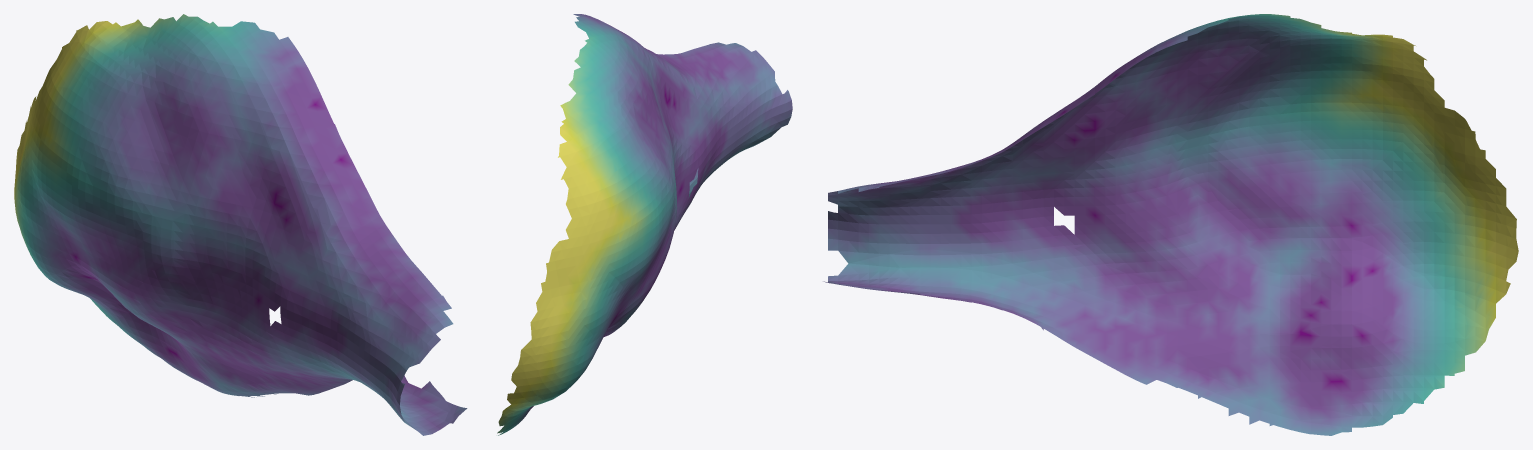
The model's file is crop1028_gap.glb.
3 renders of one model, left to right at view 1: azimuth 30°, elevation 25°; view 2: azimuth 150°, elevation 25°; view 3: azimuth 270°, elevation 25°, orthographic. The views are drawn at different scales.
Visible parts, largest first — view 1: world; view 2: world; view 3: world.
Boxes of the visible parts, x1,y1,x2,y2 form: world: (14, 14, 467, 435); world: (497, 14, 792, 435); world: (823, 14, 1518, 435).
Size of the model in its own units: 295 by 699 by 1086.
